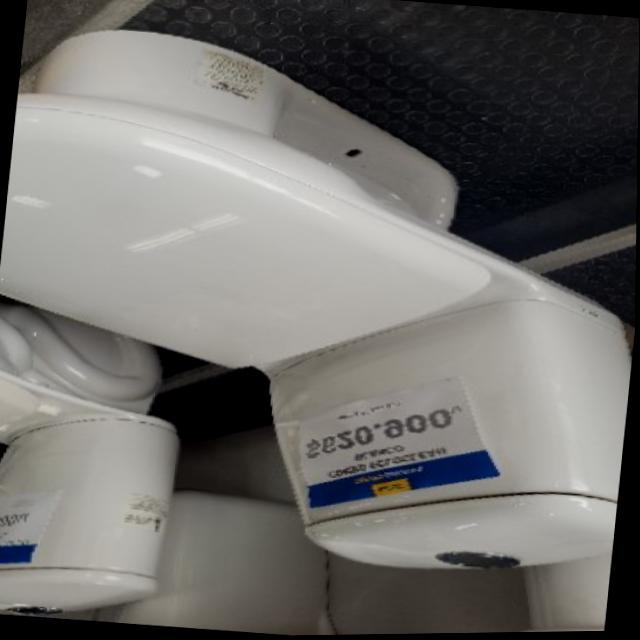toilet: (0, 16, 640, 640), (0, 298, 193, 628)
